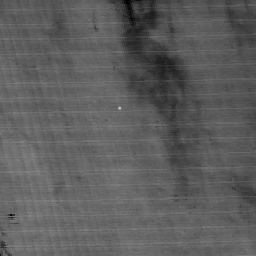Target: (116, 105, 122, 111)
